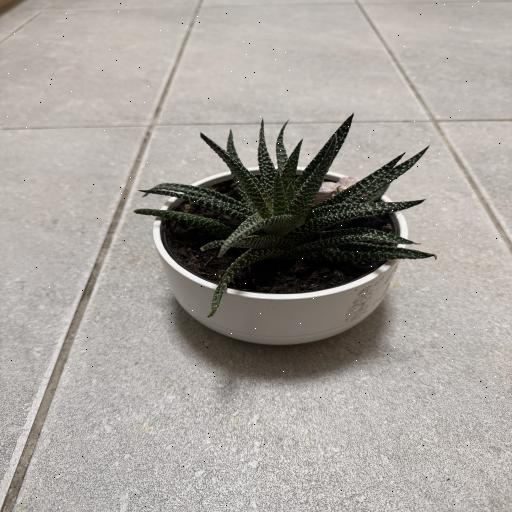Plant Pot: (151, 167, 410, 345)
